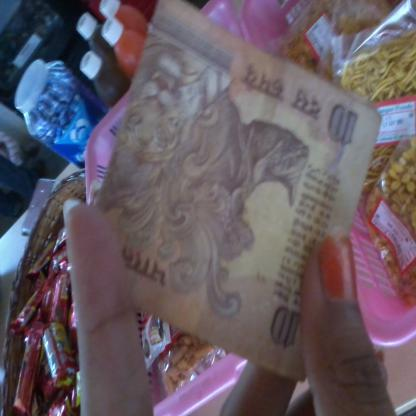Old10Back: (96, 0, 382, 383)
